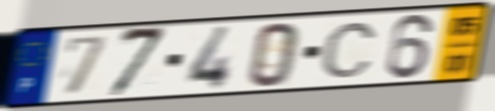0: (245, 20, 301, 89)
4: (183, 24, 234, 92)
6: (384, 12, 435, 81)
7: (105, 25, 170, 101), (62, 34, 110, 97)
C: (319, 20, 380, 80)
